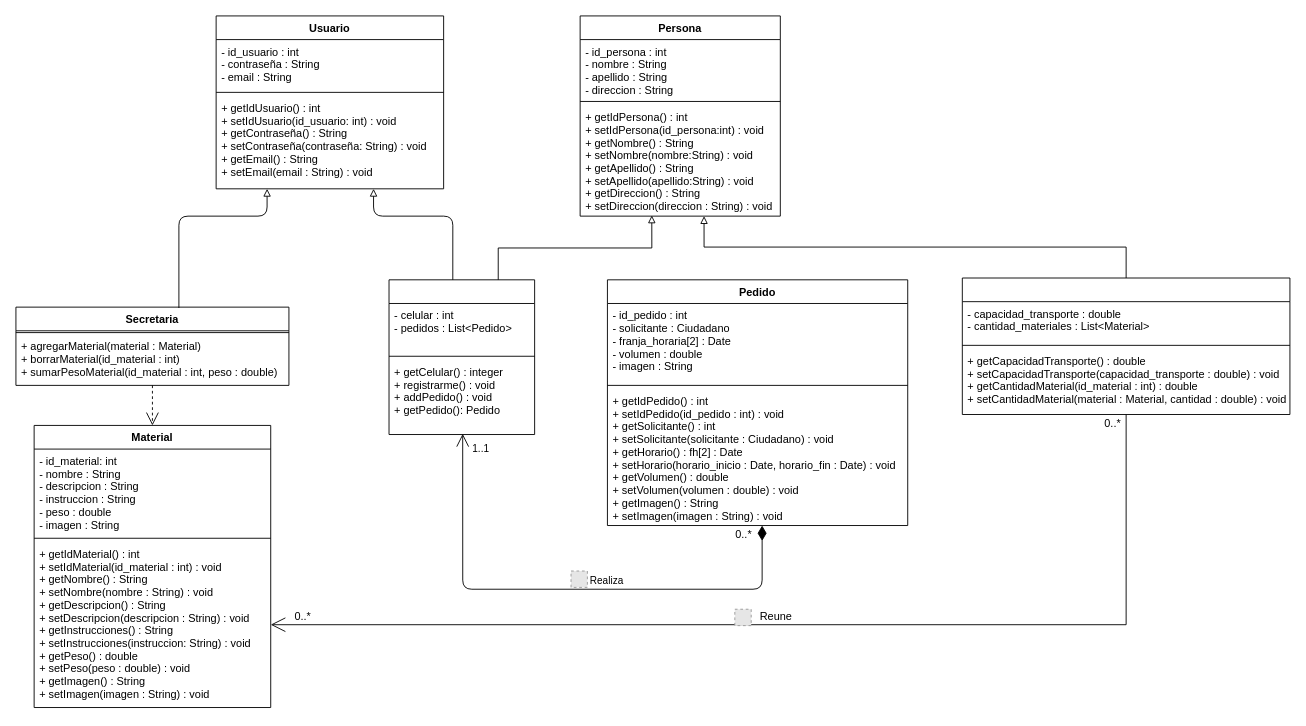
Some shapes in this 1306 by 726 pixel diagram are drawn without their labels. Grey dashed boxes stand in for pictures. The box of each missing label's shape, as (x1, y1, x2, y2) in pixels:
Cartonero: (961, 277, 1290, 415)
Ciudadano: (388, 279, 535, 435)
